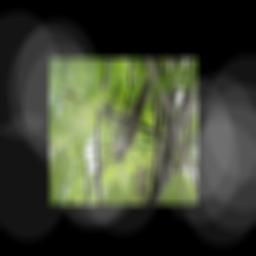Cuckoo: (109, 77, 154, 163)
